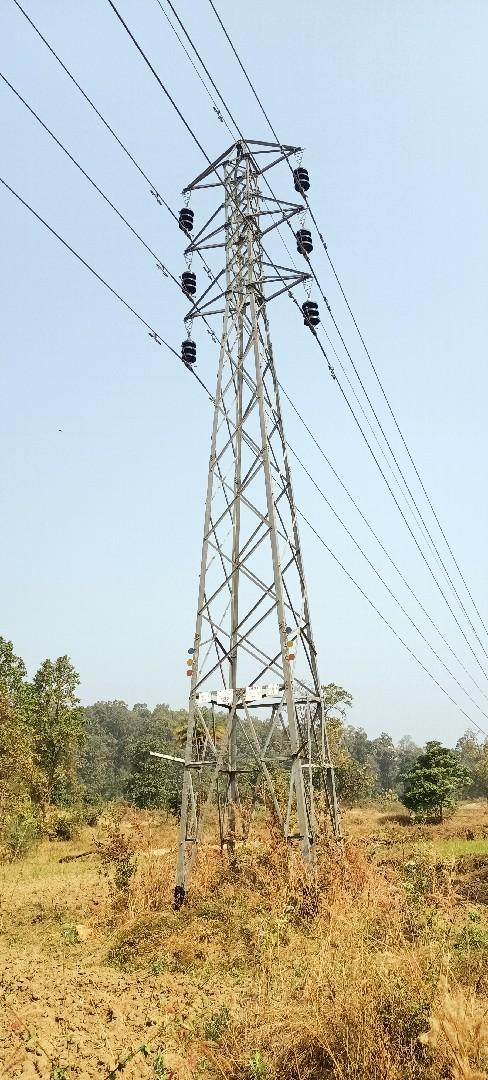GSM Antenna: (134, 130, 351, 829)
